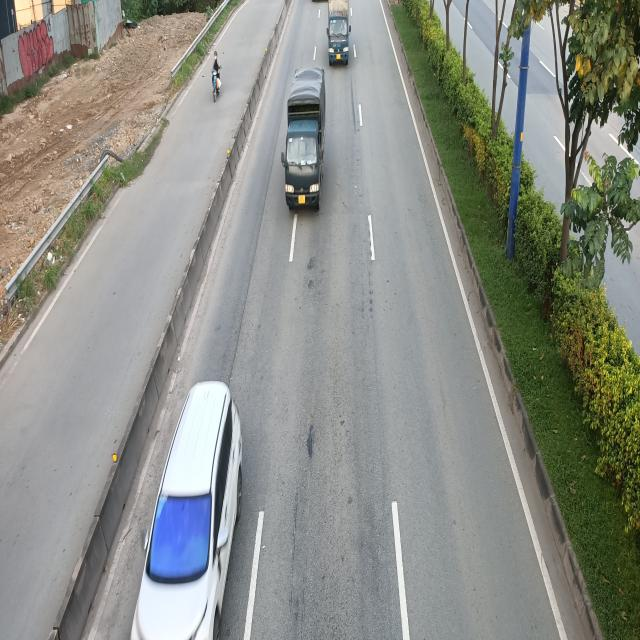car: (118, 381, 240, 638)
truck: (279, 68, 326, 211), (327, 0, 353, 65)
